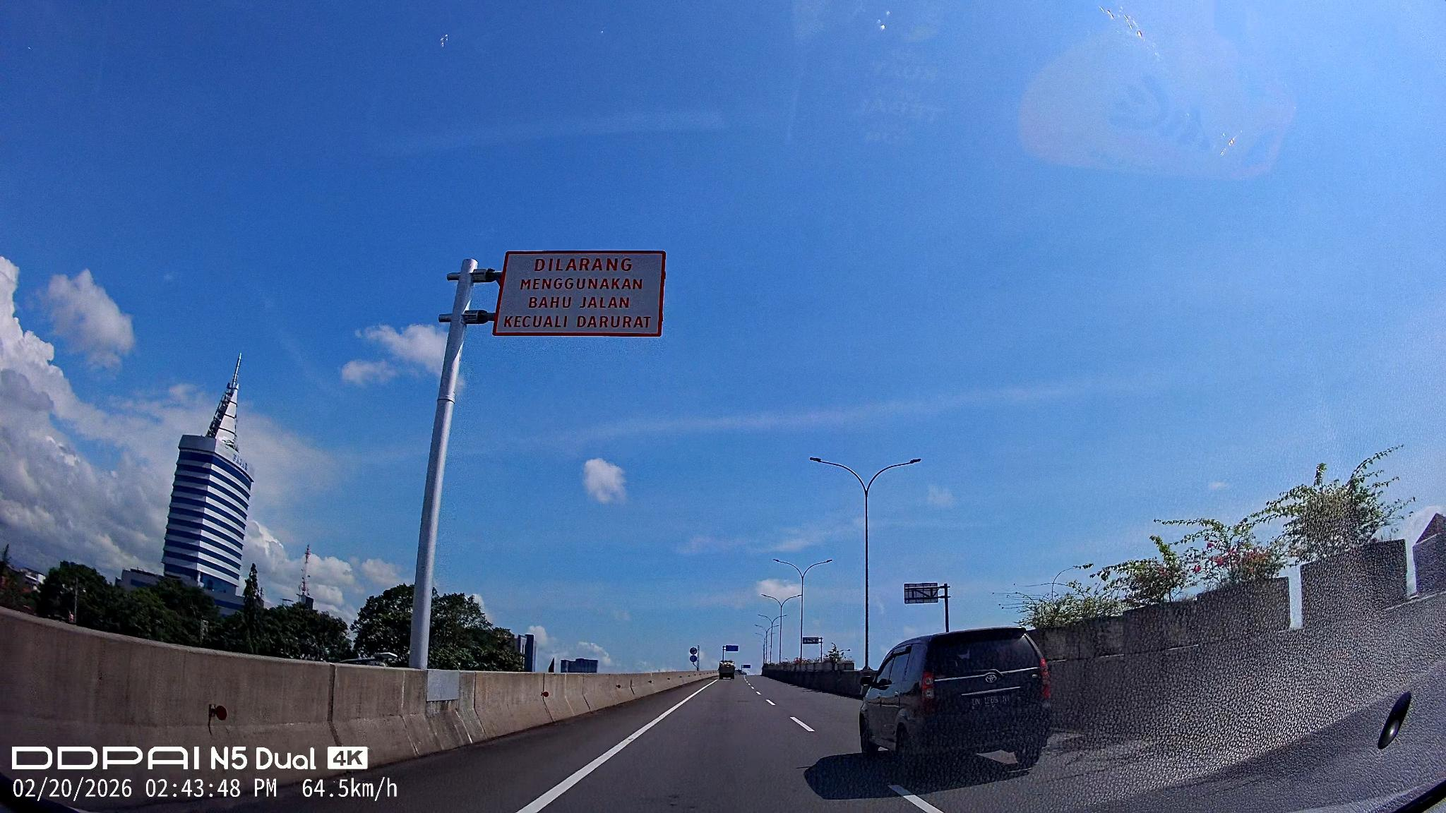rambu_teks: (494, 248, 671, 337)
